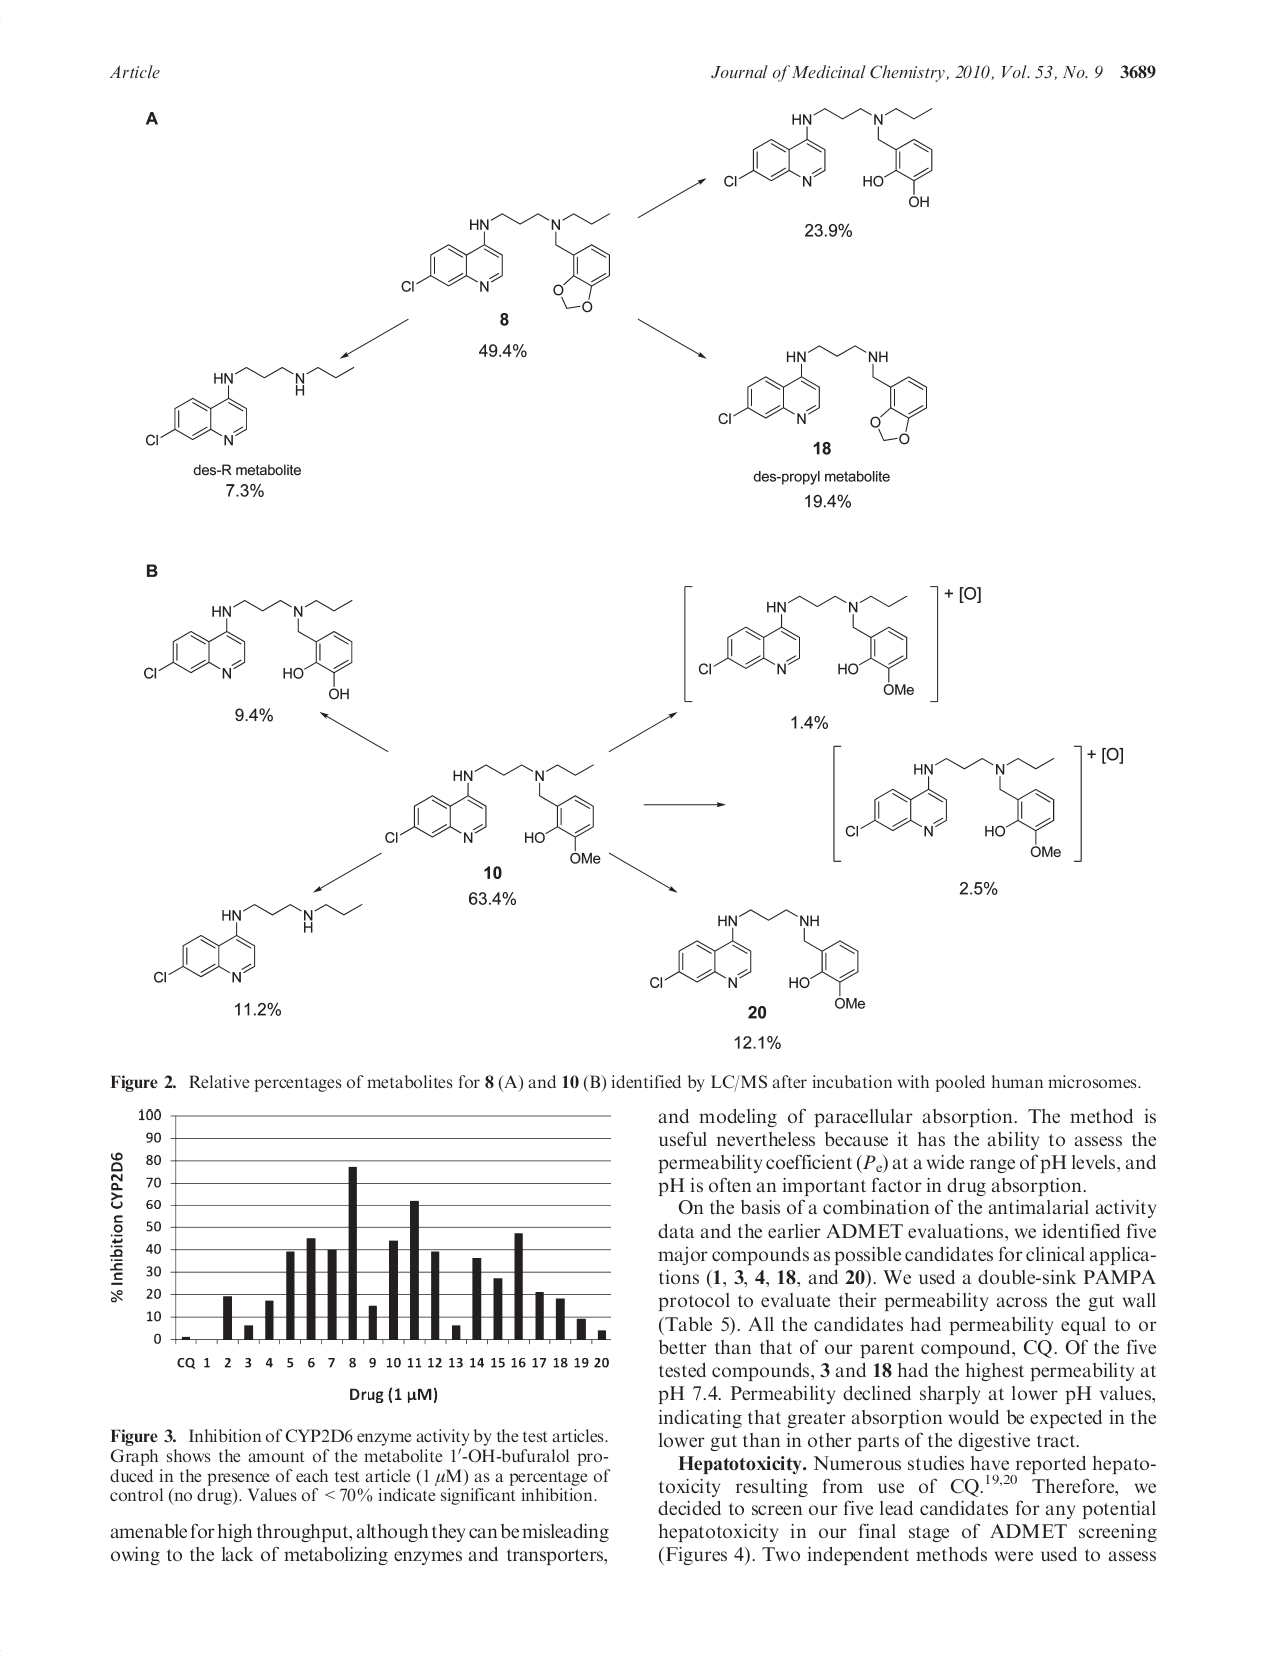exist_molecular: (699, 584, 920, 715), (713, 102, 951, 214), (641, 902, 884, 1011), (390, 755, 614, 872), (846, 747, 1072, 860), (718, 342, 936, 453), (399, 207, 626, 313), (152, 900, 379, 997), (140, 358, 364, 447)
